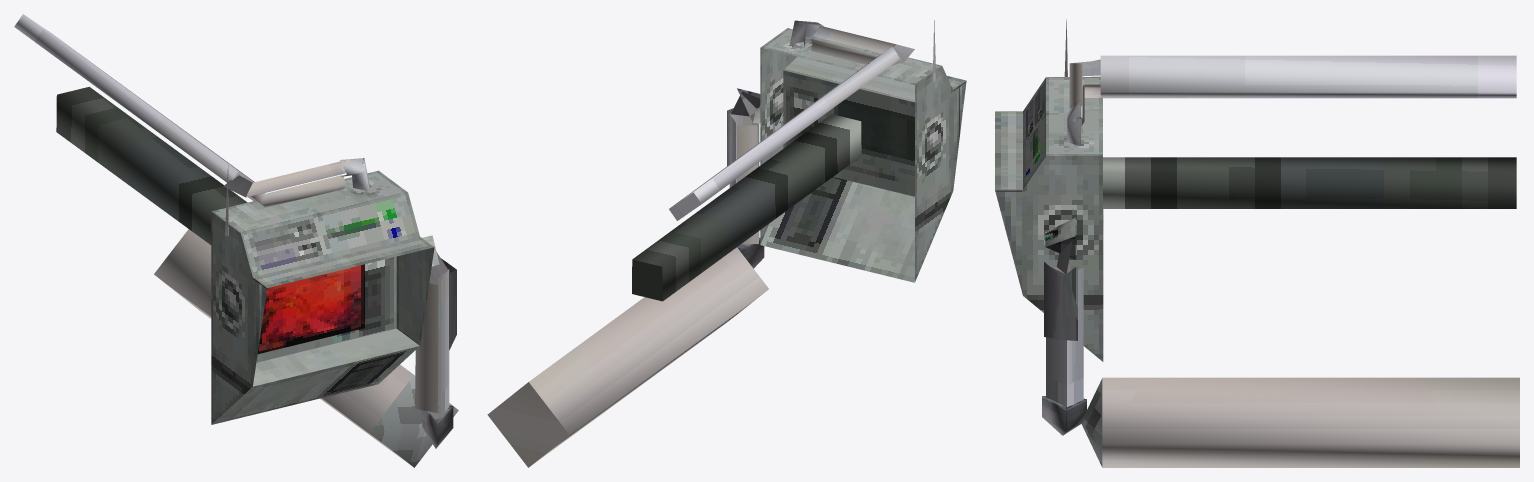
Rendered from frn_all_data_terminal_wall_s4_l2.fbx.
3 views of the same model, side by side, from view 1: azimuth 30°, elevation 25°; view 2: azimuth 150°, elevation 25°; view 3: azimuth 270°, elevation 25° (orthographic). The views are drawn at different scales.
Parts seen in each view (by area): view 1: mesh_node; view 2: mesh_node; view 3: mesh_node.
Boxes of the visible parts, <box> form: mesh_node: <box>14,14,458,467</box>; mesh_node: <box>487,20,966,467</box>; mesh_node: <box>995,19,1519,467</box>.
Bounding box in the file's own units: 0.6749 × 0.9477 × 1.26.
